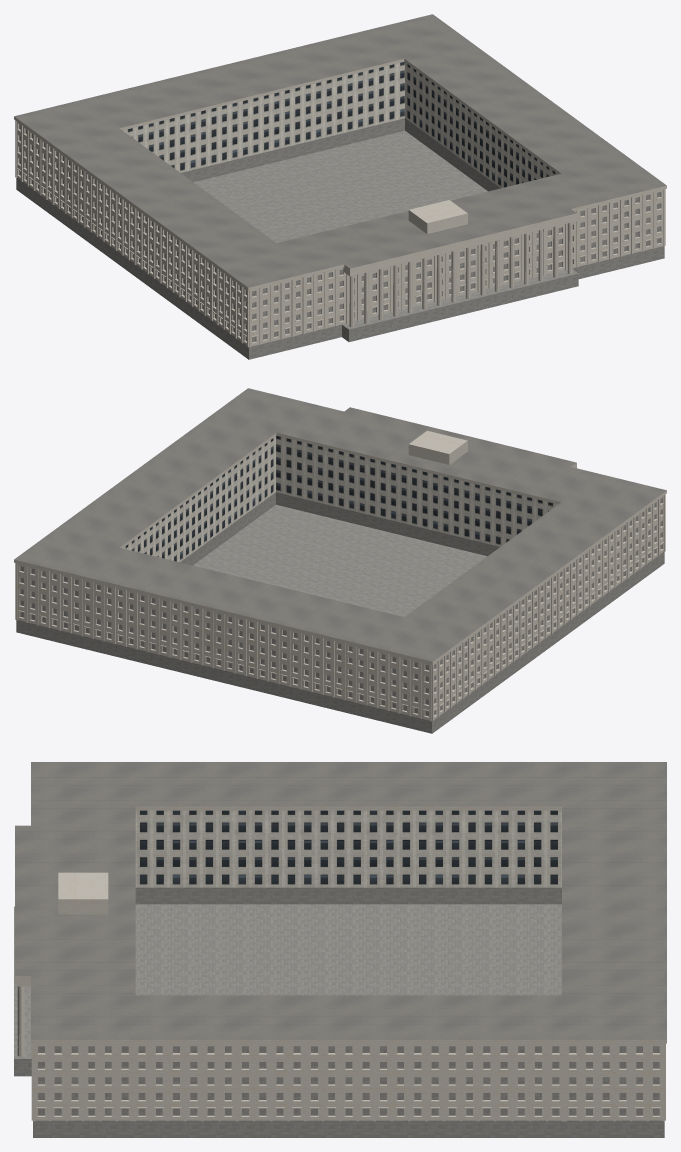
Rendered from cannon_house.glb.
3 views of the same model, one above another, from view 1: azimuth 30°, elevation 25°; view 2: azimuth 150°, elevation 25°; view 3: azimuth 270°, elevation 25° (orthographic). The views are drawn at different scales.
Visible parts, largest first — view 1: cannon_house; view 2: cannon_house; view 3: cannon_house.
Part boxes in pixels (bbox=[...]): cannon_house: bbox=[14, 14, 666, 359]; cannon_house: bbox=[14, 388, 666, 733]; cannon_house: bbox=[14, 762, 666, 1137].
Bounding box in the file's own units: 144 × 27.6 × 143.
4 materials, 4 textured.
